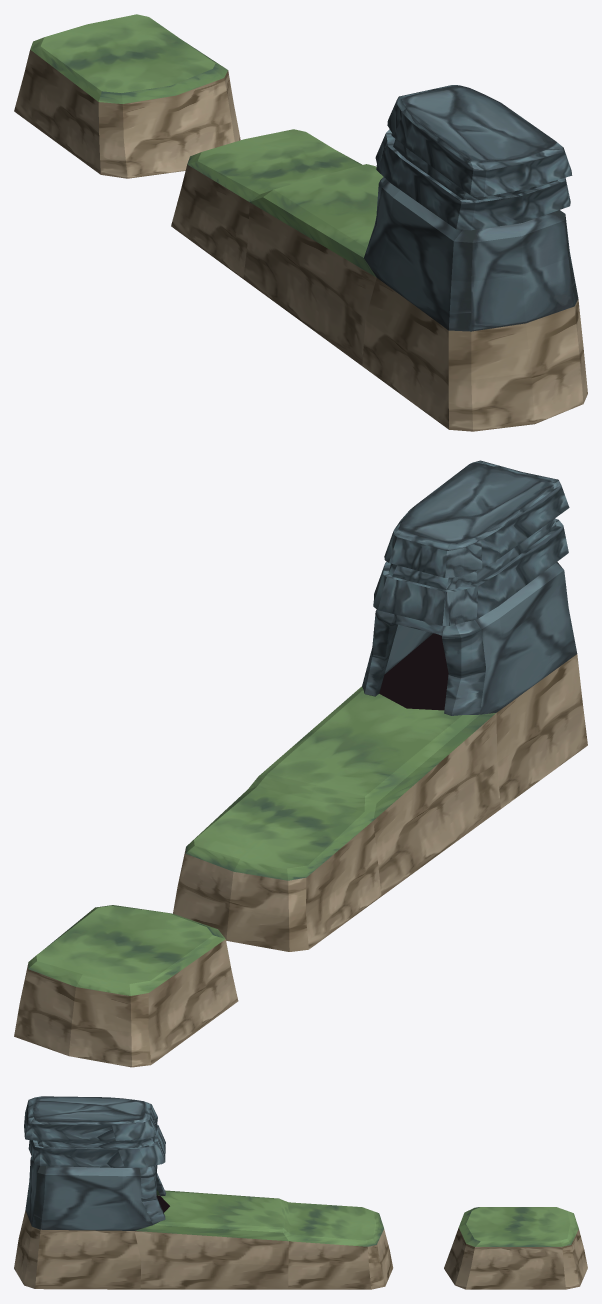
The model's file is 第一關1-2.fbx.
The picture shows the model from 3 angles, top to bottom: view 1: azimuth 30°, elevation 25°; view 2: azimuth 150°, elevation 25°; view 3: azimuth 270°, elevation 25°; orthographic projection. The views are drawn at different scales.
Visible parts, largest first — view 1: 立方體; view 2: 立方體; view 3: 立方體.
Boxes of the visible parts, x1,y1,x2,y2 form: 立方體: (14, 14, 587, 431); 立方體: (14, 460, 587, 1067); 立方體: (14, 1096, 587, 1289).
Bounding box in the file's own units: 799 × 1400 × 4567.
Materials: 3 (2 with a texture image).
